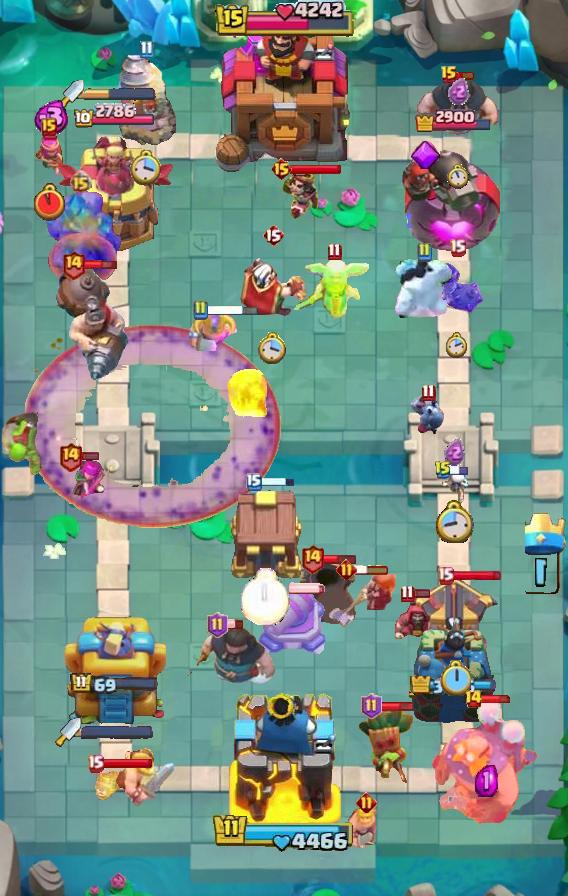archer: (343, 807, 389, 851)
bar: (52, 132, 176, 256), (62, 611, 166, 731)
bar-level: (0, 412, 50, 478)
bomb: (225, 487, 305, 581)
bomber-evolution: (277, 169, 319, 223)
bowler: (391, 599, 443, 647)
cannon: (67, 457, 109, 505), (33, 134, 65, 178)
cannoneer-tower: (35, 190, 125, 280)
clock: (212, 812, 356, 854), (214, 0, 354, 40)
electro-spirit: (29, 100, 70, 134), (475, 765, 498, 797), (447, 79, 469, 106), (444, 438, 465, 465)
elixir: (241, 568, 291, 625), (435, 500, 474, 543), (130, 149, 162, 187), (35, 183, 65, 221), (441, 660, 471, 696), (258, 330, 288, 364), (446, 333, 468, 360), (447, 164, 469, 189)
emote: (206, 303, 260, 316), (450, 569, 501, 582), (290, 163, 342, 175), (101, 757, 153, 769), (288, 582, 326, 594), (82, 258, 117, 271), (354, 564, 390, 576), (323, 553, 358, 565), (378, 700, 414, 711), (261, 476, 296, 487), (481, 694, 513, 704), (450, 464, 469, 476), (455, 70, 475, 81), (413, 588, 432, 599), (225, 619, 244, 630), (81, 451, 100, 461)
goblin-ball: (429, 260, 485, 316)
goblin-barrel: (356, 704, 416, 784)
goblin-giant: (111, 743, 177, 807), (190, 309, 239, 352)
heal-spirit: (438, 467, 470, 503)
hog-rider: (328, 572, 398, 628)
ice-spirit-evolution: (92, 766, 124, 802)
king-tower: (211, 7, 357, 181), (226, 688, 342, 826)
king-tower-bar: (84, 87, 156, 101), (81, 725, 153, 739)
lava-pup: (409, 575, 501, 657)
little-prince: (432, 699, 540, 825)
magic-archer: (116, 54, 176, 146)
musketeer: (296, 559, 358, 627)
poison: (290, 251, 378, 325)
queen-tower: (409, 616, 497, 731)
rage: (392, 257, 456, 325)
rocket: (25, 324, 281, 528)
royal-delivery: (407, 394, 449, 436)
royal-hog: (415, 73, 501, 151), (183, 624, 275, 686)
royal-recruit: (257, 585, 329, 659)
selected: (72, 102, 155, 129), (69, 672, 158, 696), (414, 108, 494, 133), (411, 677, 498, 695)
skeleton-king: (238, 252, 308, 320)
skeleton-king-skill: (410, 141, 440, 169)
text: (62, 249, 87, 280), (57, 441, 82, 472), (300, 543, 325, 574), (271, 157, 294, 181), (68, 170, 91, 194), (208, 612, 229, 638), (362, 693, 383, 719), (262, 223, 284, 247), (335, 560, 357, 581), (355, 791, 376, 812), (464, 689, 484, 709), (440, 65, 458, 85), (434, 460, 452, 480), (449, 239, 467, 258), (87, 755, 105, 774), (416, 242, 432, 262), (192, 300, 208, 320), (437, 567, 454, 585), (41, 118, 57, 136), (246, 473, 262, 491), (138, 41, 153, 60), (401, 584, 415, 603), (327, 243, 341, 261), (421, 383, 435, 401)
tower-bar: (402, 136, 504, 256)
valkyrie: (225, 363, 272, 421)
wizard: (50, 263, 130, 383)
